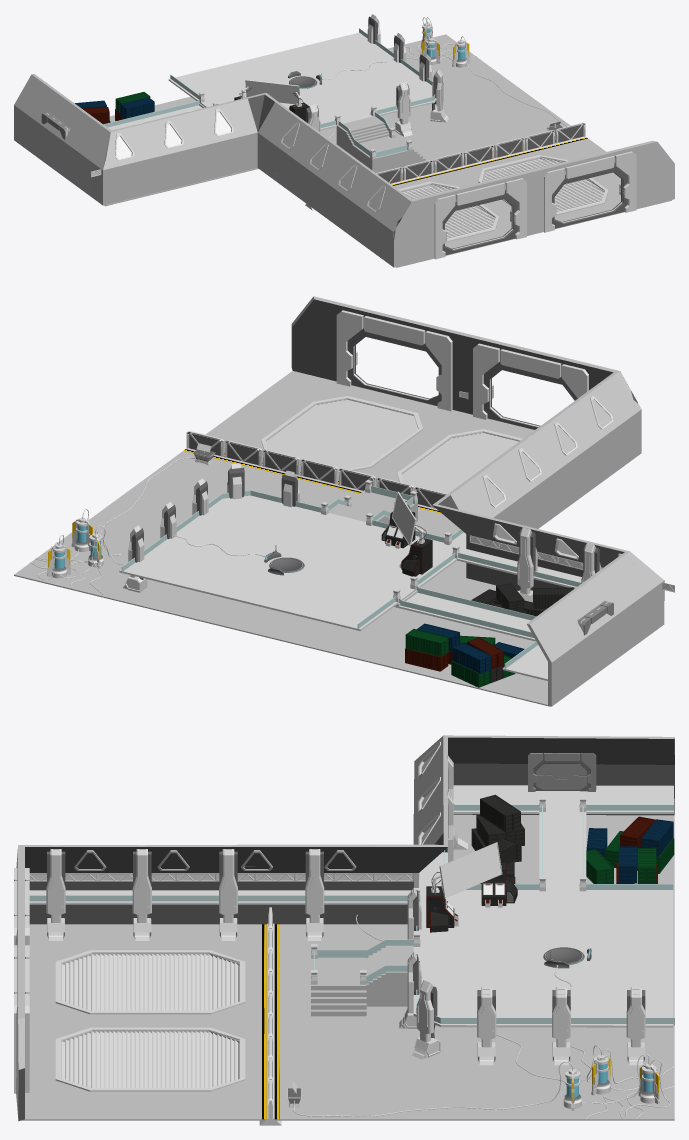
File: StartingHangar4Unity.fbx
3 renders of one model, top to bottom at view 1: azimuth 30°, elevation 25°; view 2: azimuth 150°, elevation 25°; view 3: azimuth 270°, elevation 25°, orthographic. The views are drawn at different scales.
Visible parts, largest first — view 1: Pareti.001, Pavimento, Pavimento Piano 1, Outer Border.001, Cube.001, Colonne, Cube.004, Ringhiera Piano 1, Cornice.001, Container 1, Cube.010, Generatore (+2 smaller); view 2: Pavimento, Pareti.001, Pavimento Piano 1, Outer Border.001, Colonne, Cube.001, Container 1, Ringhiera Piano 1, Cube.010, Generatore, Container 1.008, Cube.004 (+5 smaller); view 3: Pavimento, Pavimento Piano 1, Pareti.001, Colonne, Ringhiera Piano 1, Cube.004, Container 1, Cube.010, Cube.001, Plane.001, Container 1.008, Generatore (+8 smaller).
Boxes of the visible parts, x1,y1,x2,y2 form: Pareti.001: (14, 74, 674, 267); Pavimento: (104, 34, 671, 267); Pavimento Piano 1: (108, 32, 436, 130); Outer Border.001: (434, 151, 636, 259); Cube.001: (305, 122, 587, 210); Colonne: (136, 14, 448, 192); Cube.004: (336, 116, 425, 172); Ringhiera Piano 1: (103, 28, 435, 157); Cornice.001: (115, 108, 385, 212); Container 1: (75, 92, 154, 124); Cube.010: (234, 79, 309, 121); Generatore: (421, 22, 469, 67); Pavimento: (14, 371, 550, 706); Pareti.001: (291, 296, 664, 706); Pavimento Piano 1: (119, 495, 581, 680); Outer Border.001: (336, 310, 588, 429); Colonne: (123, 382, 604, 602); Cube.001: (184, 431, 447, 513); Container 1: (405, 623, 524, 687); Ringhiera Piano 1: (121, 486, 581, 668); Cube.010: (381, 491, 432, 576); Generatore: (47, 518, 103, 578); Container 1.008: (471, 583, 573, 616); Cube.004: (328, 490, 417, 523); Pavimento: (21, 814, 674, 1120); Pavimento Piano 1: (29, 785, 673, 1027); Pareti.001: (15, 735, 674, 1121); Colonne: (46, 755, 645, 1065); Ringhiera Piano 1: (29, 804, 674, 1025); Cube.004: (311, 945, 413, 1016); Container 1: (586, 816, 674, 883); Cube.010: (426, 842, 517, 932); Cube.001: (259, 907, 281, 1125); Plane.001: (29, 755, 419, 881); Container 1.008: (471, 794, 524, 883); Generatore: (563, 1054, 659, 1110).
Size of the model in its own units: 8107 by 1171 by 7168.
